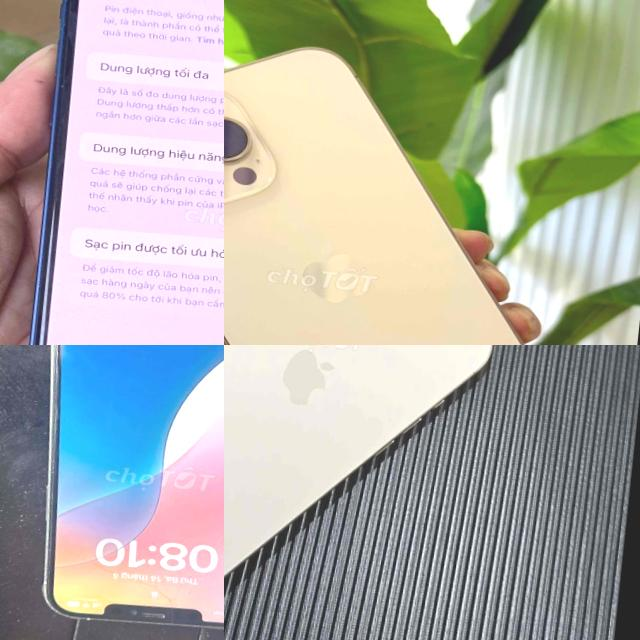gen_12_13: (10, 0, 224, 345), (13, 345, 224, 640)
gen_14: (224, 17, 603, 345)
gen_16: (224, 345, 512, 632)
